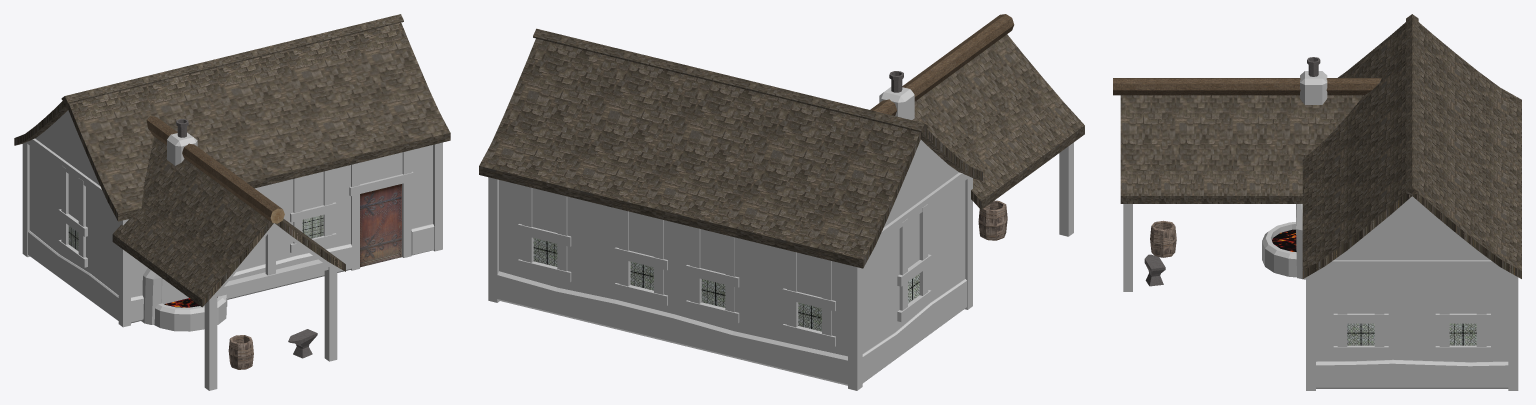
Rendered from House_04.fbx.
The picture shows the model from 3 angles, left to right: view 1: azimuth 30°, elevation 25°; view 2: azimuth 150°, elevation 25°; view 3: azimuth 270°, elevation 25°; orthographic projection. The views are drawn at different scales.
Parts seen in each view (by area): view 1: Cube_017_Cube_018_Wood_3; view 2: Cube_017_Cube_018_Wood_3; view 3: Cube_017_Cube_018_Wood_3.
Part boxes in pixels (x1,y1,x2,y2): Cube_017_Cube_018_Wood_3: [14, 14, 450, 390]; Cube_017_Cube_018_Wood_3: [479, 14, 1084, 390]; Cube_017_Cube_018_Wood_3: [1113, 14, 1521, 390].
Bounding box in the file's own units: 12.02 × 6.76 × 11.97.
